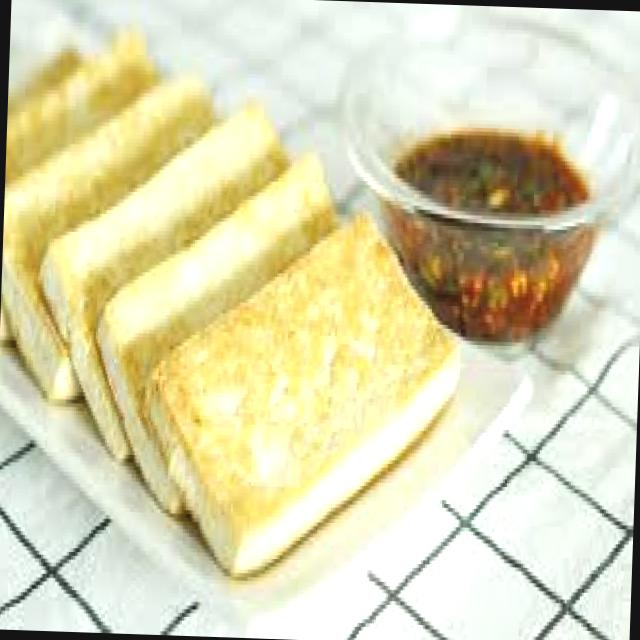tofu: (17, 39, 479, 576)
